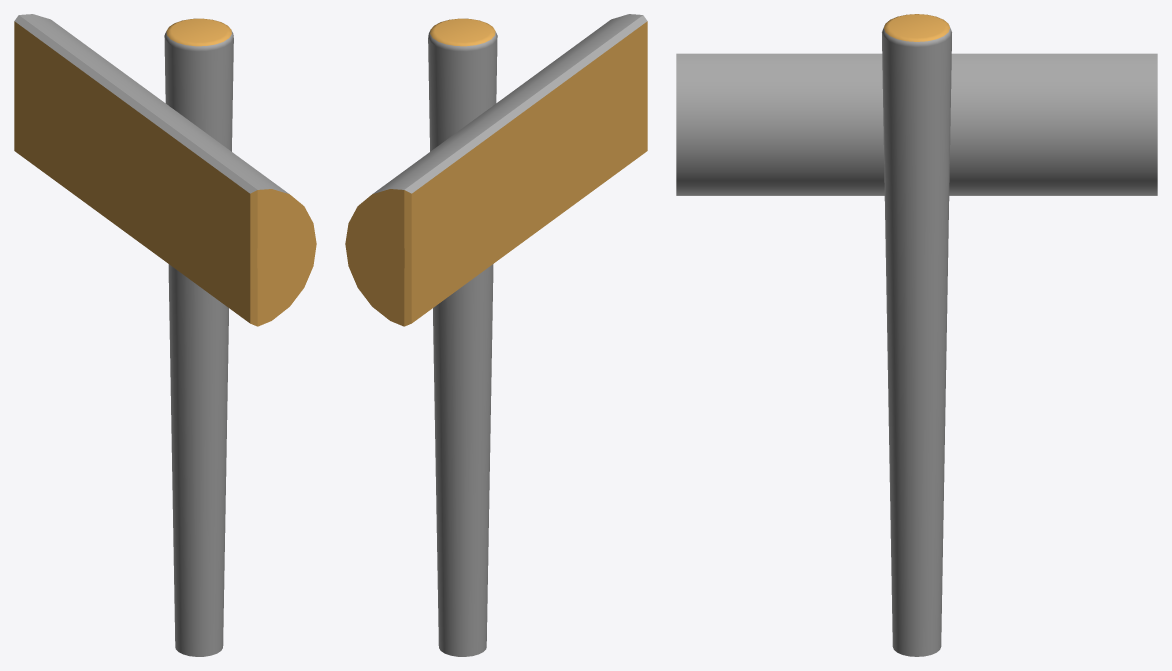
File: Coincraft_Signboard.fbx
The picture shows the model from 3 angles, left to right: view 1: azimuth 30°, elevation 25°; view 2: azimuth 150°, elevation 25°; view 3: azimuth 270°, elevation 25°; orthographic projection.
Visible parts, largest first — view 1: pCylinder4; view 2: pCylinder4; view 3: pCylinder4.
Boxes of the visible parts, x1,y1,x2,y2 form: pCylinder4: (14, 14, 316, 656); pCylinder4: (345, 14, 647, 656); pCylinder4: (676, 14, 1157, 656).
Bounding box in the file's own units: 29.55 × 179 × 126.
